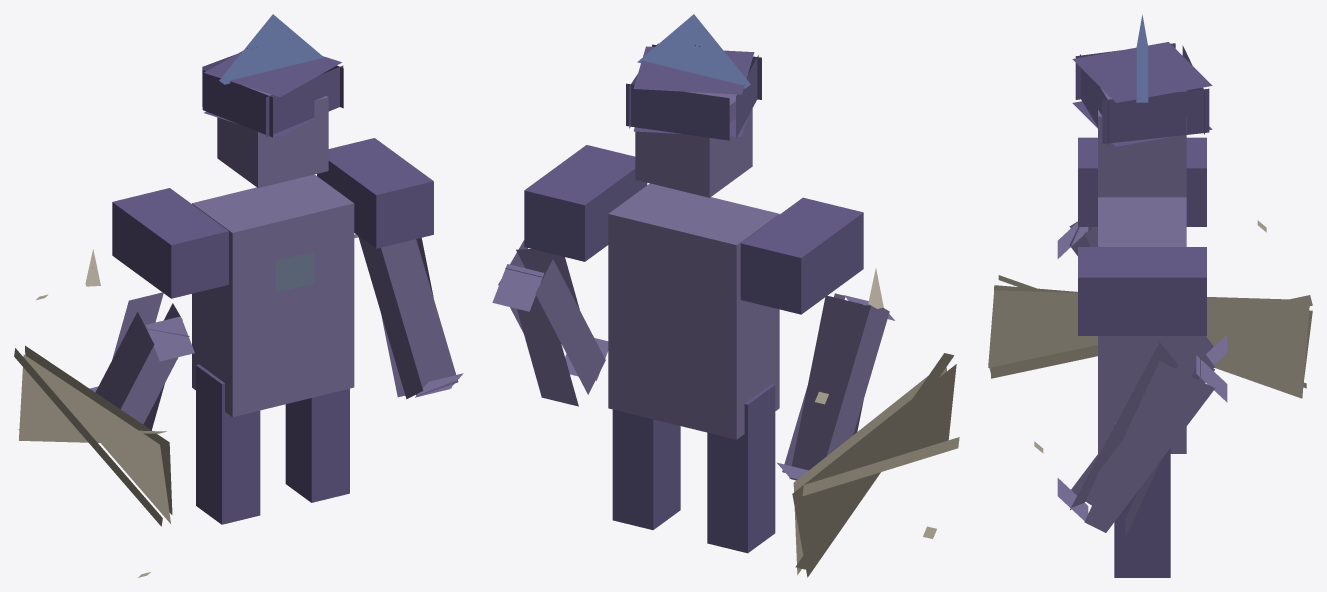
Rendered from uesugi-03.glb.
The picture shows the model from 3 angles, left to right: view 1: azimuth 30°, elevation 25°; view 2: azimuth 150°, elevation 25°; view 3: azimuth 270°, elevation 25°; orthographic projection. The views are drawn at different scales.
Parts seen in each view (by area): view 1: samurai; view 2: samurai; view 3: samurai.
Boxes of the visible parts, box(x1,y1,x2,y2) form: samurai: box(14, 14, 463, 577); samurai: box(492, 14, 959, 577); samurai: box(988, 14, 1312, 577).
Size of the model in its own units: 1.05 by 1.45 by 0.8054.
